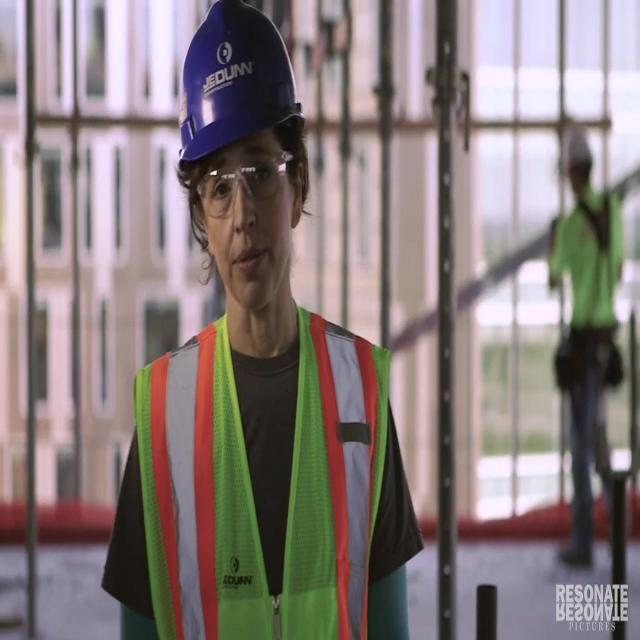Vest: (134, 302, 396, 636)
